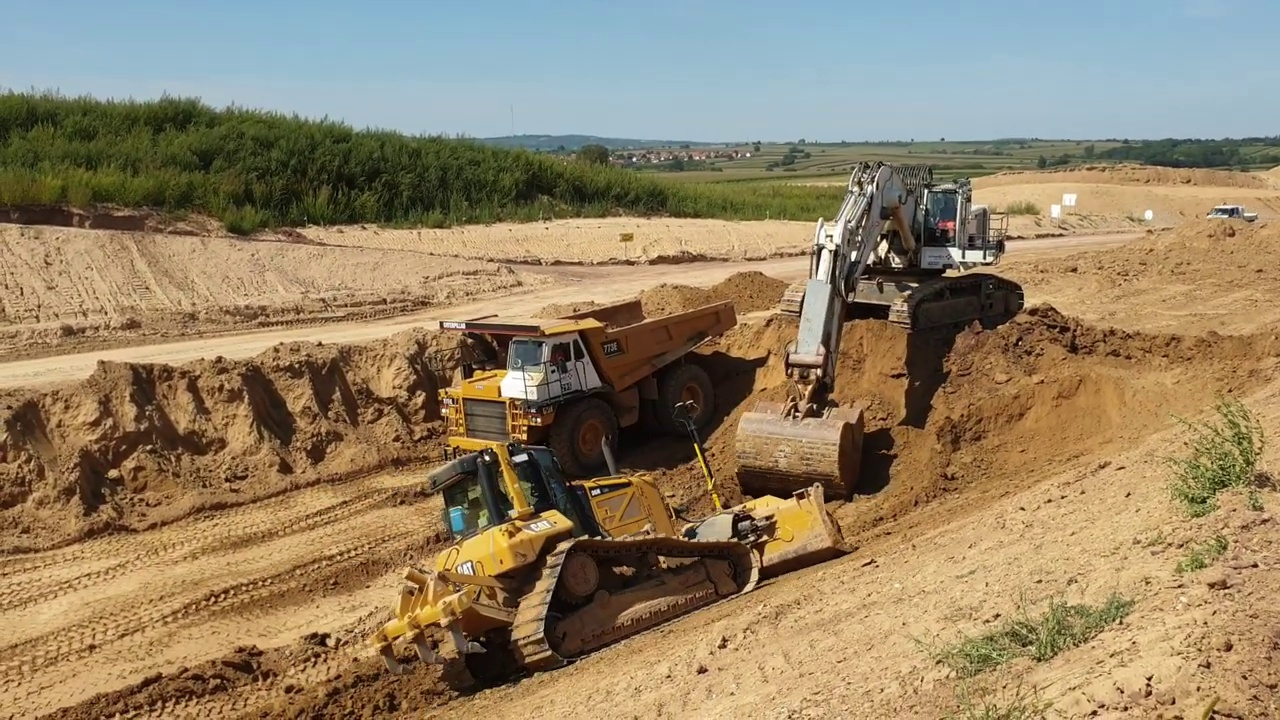bulldozer: (381, 398, 859, 699)
excavator: (737, 157, 1028, 505)
truck: (437, 295, 740, 486), (1199, 199, 1266, 241)
